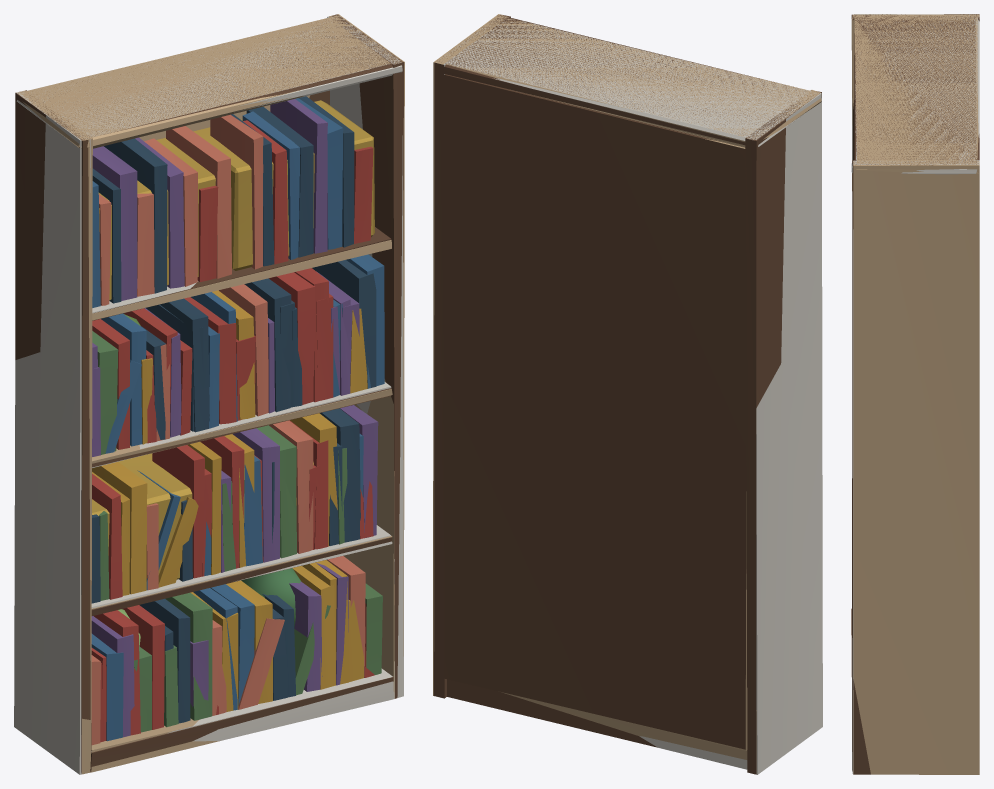
File: shelf.glb
3 views of the same model, side by side, from view 1: azimuth 30°, elevation 25°; view 2: azimuth 150°, elevation 25°; view 3: azimuth 270°, elevation 25° (orthographic). The views are drawn at different scales.
Visible parts, largest first — view 1: shelf.v0.mesh, shelf.v2.mesh, shelf.v1.mesh; view 2: shelf.v2.mesh, shelf.v1.mesh, shelf.v0.mesh; view 3: shelf.v0.mesh, shelf.v2.mesh, shelf.v1.mesh.
Boxes of the visible parts, x1,y1,x2,y2 form: shelf.v0.mesh: (16, 14, 404, 774); shelf.v2.mesh: (15, 14, 403, 773); shelf.v1.mesh: (14, 15, 403, 774); shelf.v2.mesh: (434, 14, 821, 774); shelf.v1.mesh: (436, 17, 822, 774); shelf.v0.mesh: (433, 14, 821, 774); shelf.v0.mesh: (851, 14, 979, 774); shelf.v2.mesh: (851, 14, 979, 774); shelf.v1.mesh: (851, 14, 979, 774).
Size of the model in its own units: 0.9673 by 1.8 by 0.3439.
